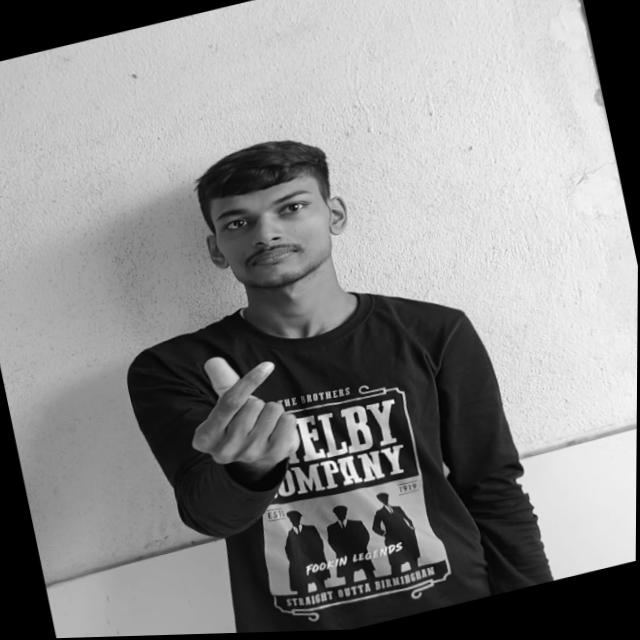Grattitude: (172, 343, 316, 488)
